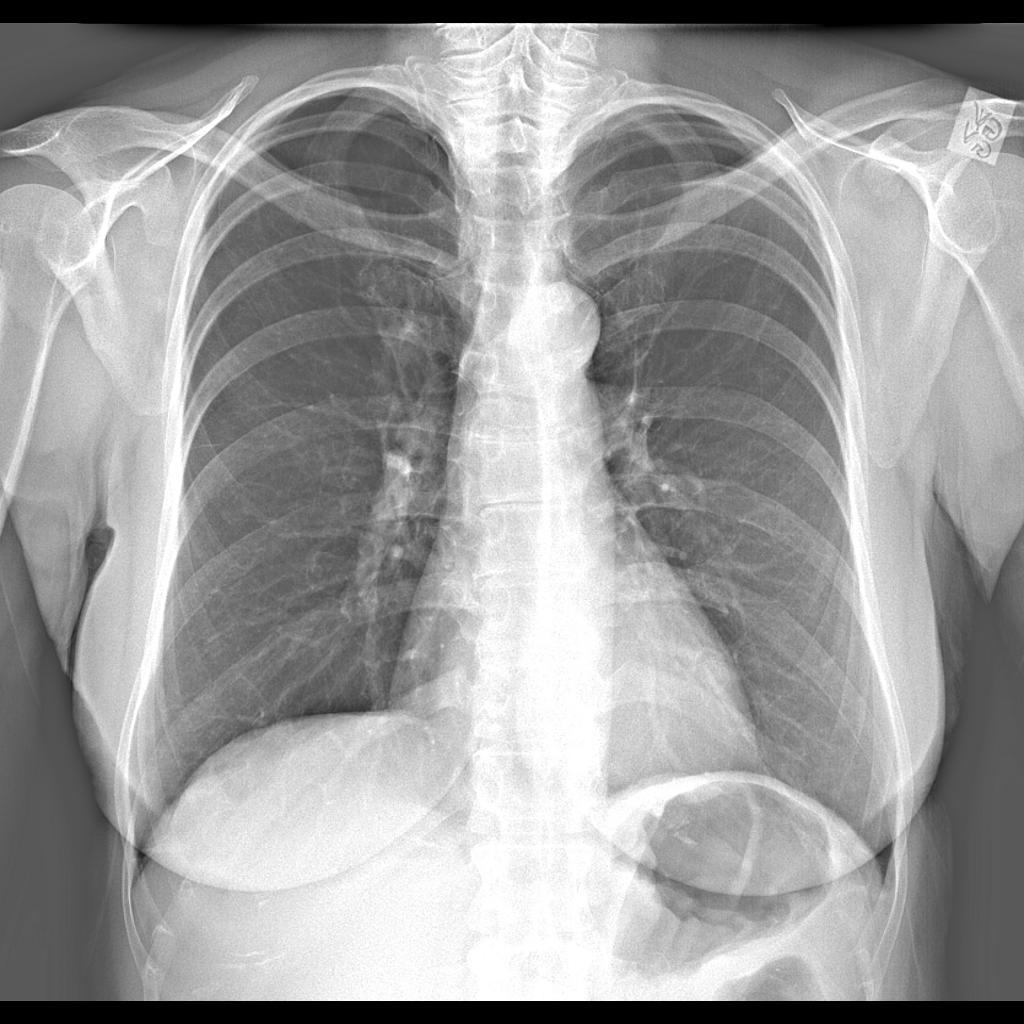Nodule: (404, 325, 415, 337)
